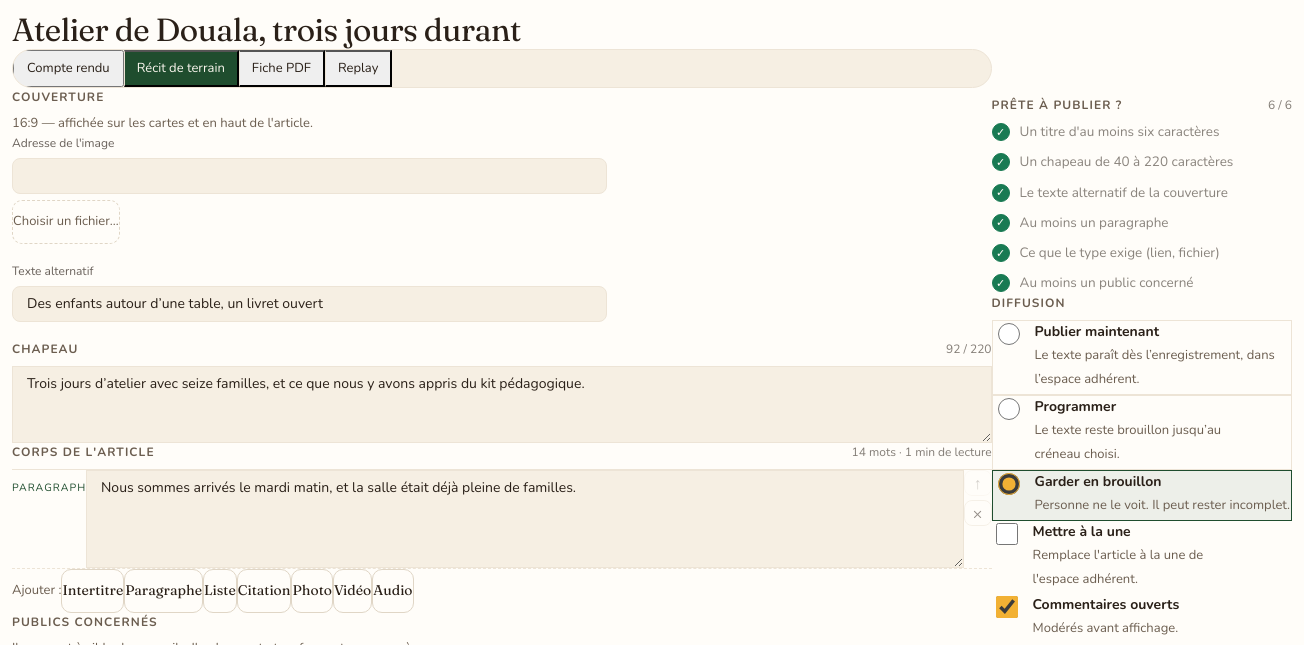
Scenario: la vidéo et le son dans le corps — migration 0108 › le plafond suit le type COURANT, pas celui de la publication chargée
Check: the button "Vidéo" is enabled, box [333,569,372,613]
Click the button "Replay": {"x": 359, "y": 69} [325,50,392,87]
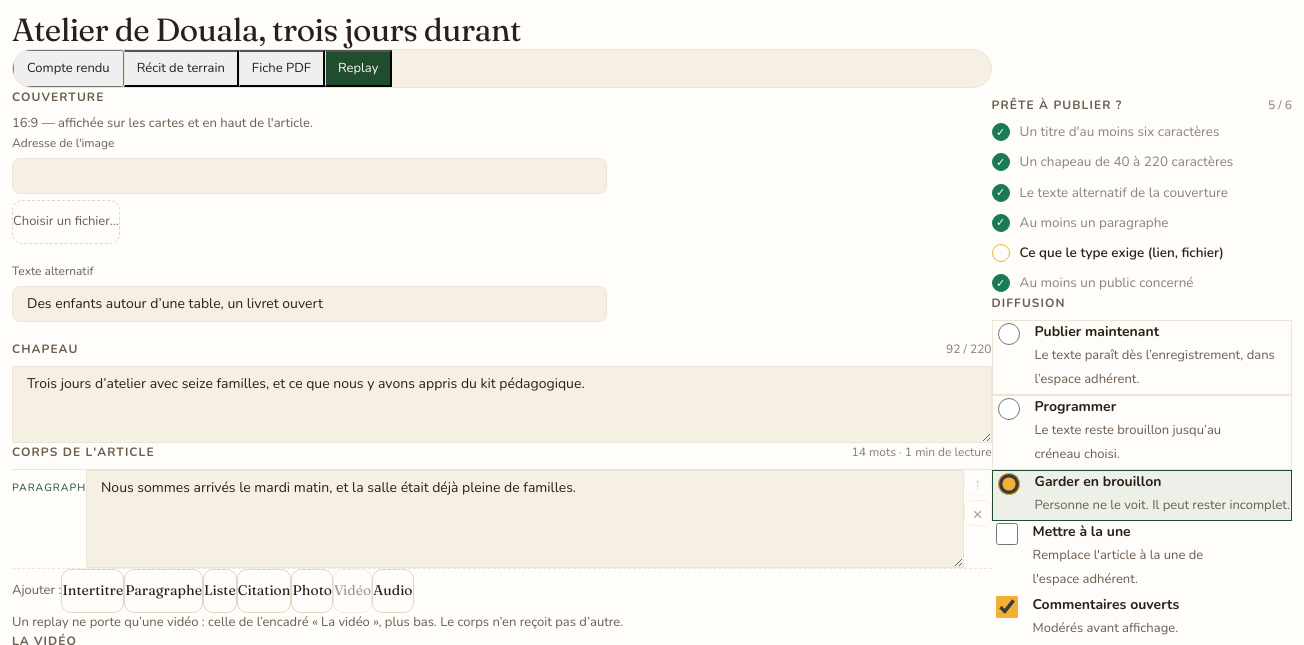
Check: the button "Vidéo" is disabled, box [333,569,372,613]
